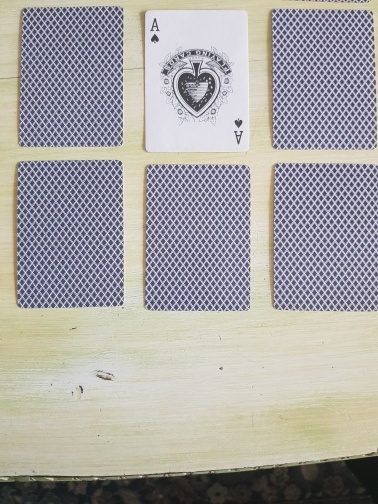ace: (144, 10, 251, 154)
